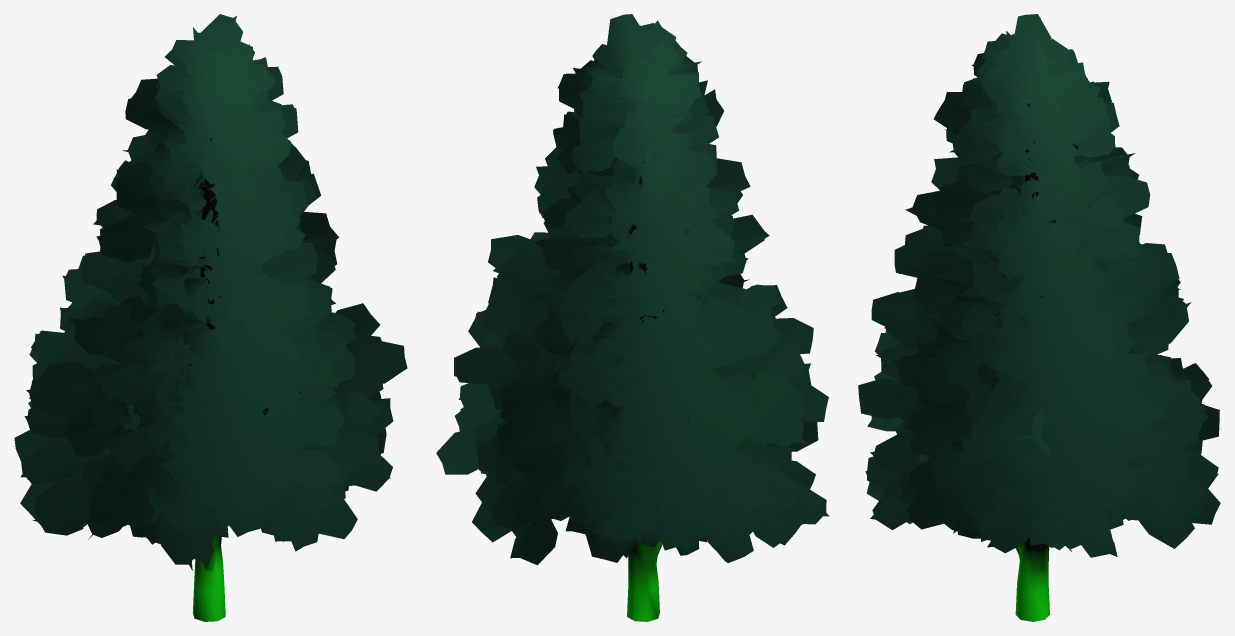
Rendered from SM_FirTree4.fbx.
The picture shows the model from 3 angles, left to right: view 1: azimuth 30°, elevation 25°; view 2: azimuth 150°, elevation 25°; view 3: azimuth 270°, elevation 25°; orthographic projection.
Parts seen in each view (by area): view 1: SM_FirTree4_LOD0; view 2: SM_FirTree4_LOD0; view 3: SM_FirTree4_LOD0.
Part boxes in pixels (bbox=[...]): SM_FirTree4_LOD0: bbox=[14, 14, 407, 621]; SM_FirTree4_LOD0: bbox=[436, 14, 829, 621]; SM_FirTree4_LOD0: bbox=[858, 14, 1220, 621].
Size of what is drawn, in the model's own units: 2091 by 3393 by 1850.
